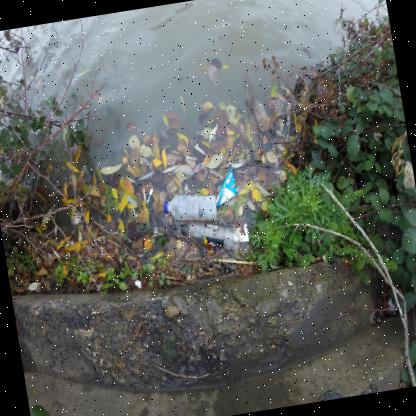Clear plastic bottle: (180, 221, 240, 250), (164, 194, 216, 220)
Crisp packet: (216, 167, 237, 206)
Other plastic: (239, 223, 249, 242)
Plastic bottle cap: (163, 200, 167, 213), (180, 224, 184, 233)
Unlabeled litter: (146, 188, 153, 205)
